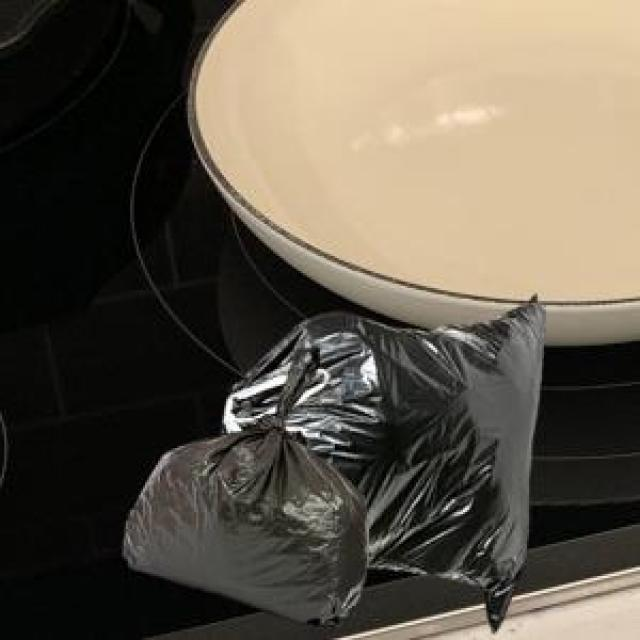Vinyl: (122, 304, 545, 628)
